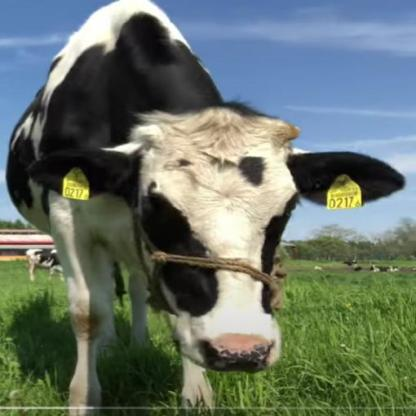cow: (4, 0, 406, 416), (24, 245, 67, 284)
